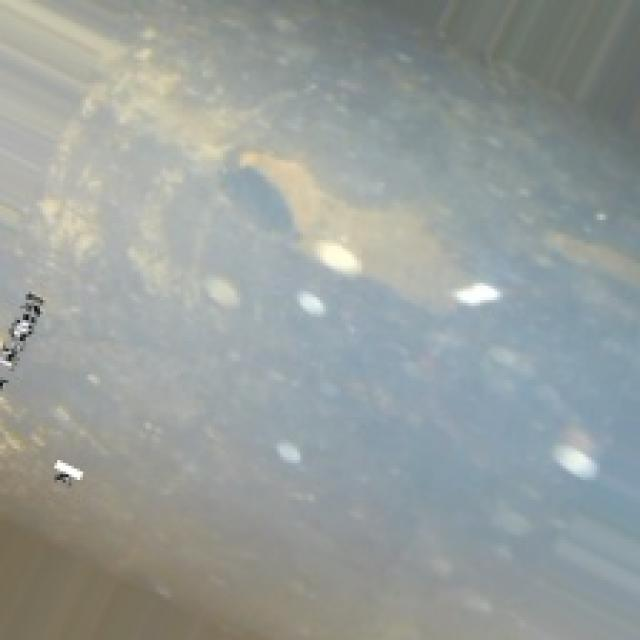pipe_surface_damage: (212, 134, 428, 294)
